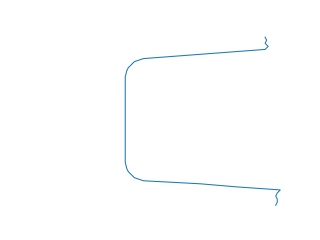aeolianDune: (115, 37, 284, 207)
